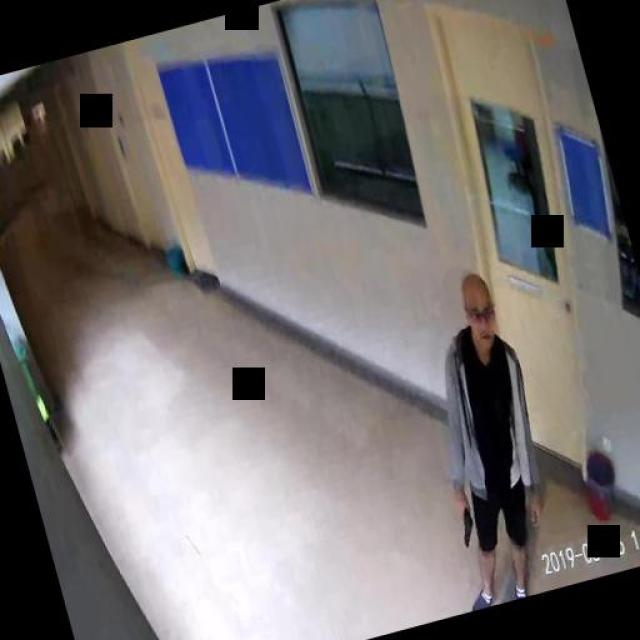gun: (451, 497, 479, 548)
